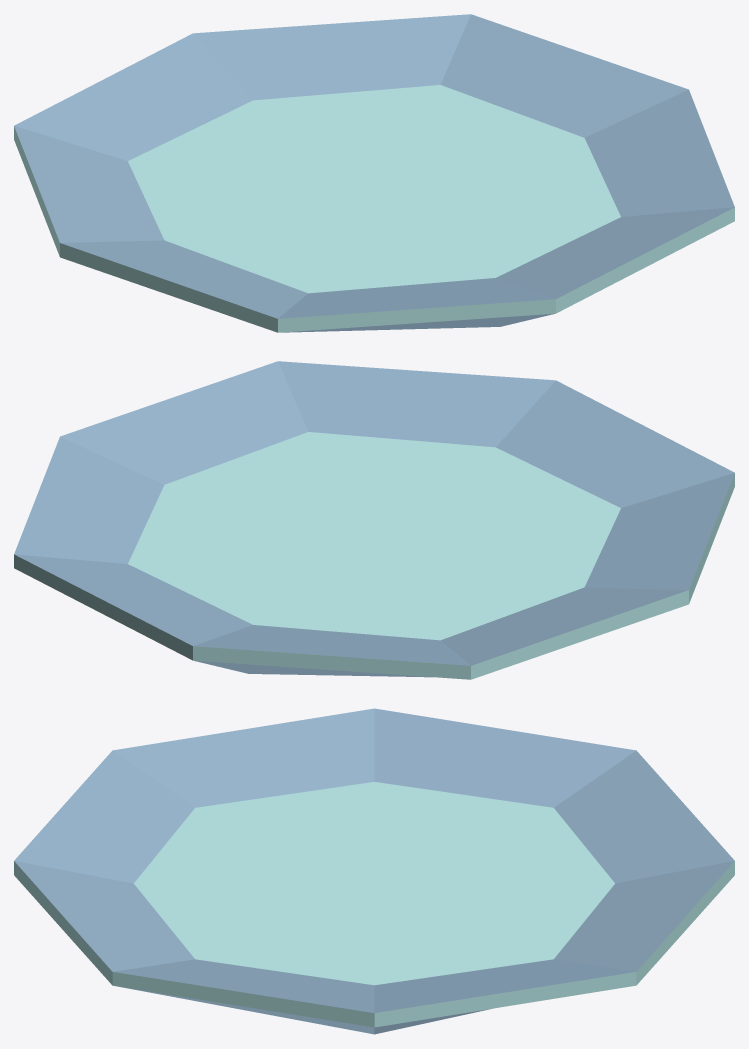
The model's file is Plate.fbx.
3 views of the same model, one above another, from view 1: azimuth 30°, elevation 25°; view 2: azimuth 150°, elevation 25°; view 3: azimuth 270°, elevation 25° (orthographic).
Visible parts, largest first — view 1: Plate; view 2: Plate; view 3: Plate.
Boxes of the visible parts, x1,y1,x2,y2 form: Plate: (14,14,734,332); Plate: (14,361,734,679); Plate: (14,708,734,1034).
Size of the model in its own units: 61.32 by 6.94 by 61.32.
